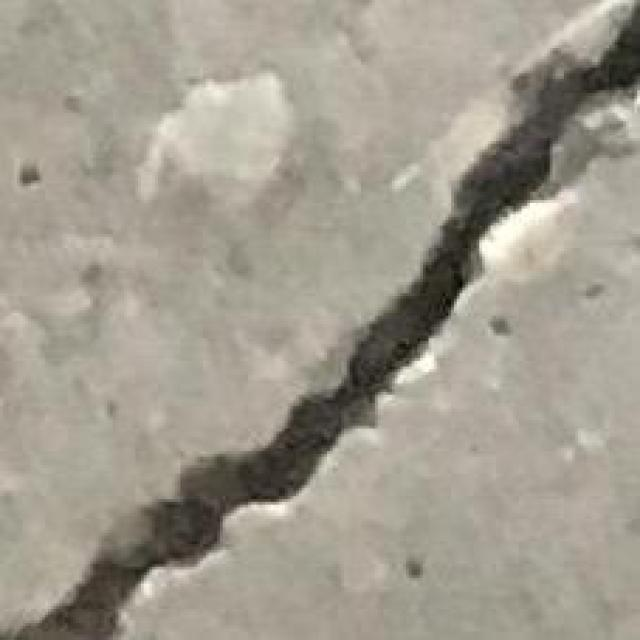diagonal crack: (0, 0, 639, 639)
